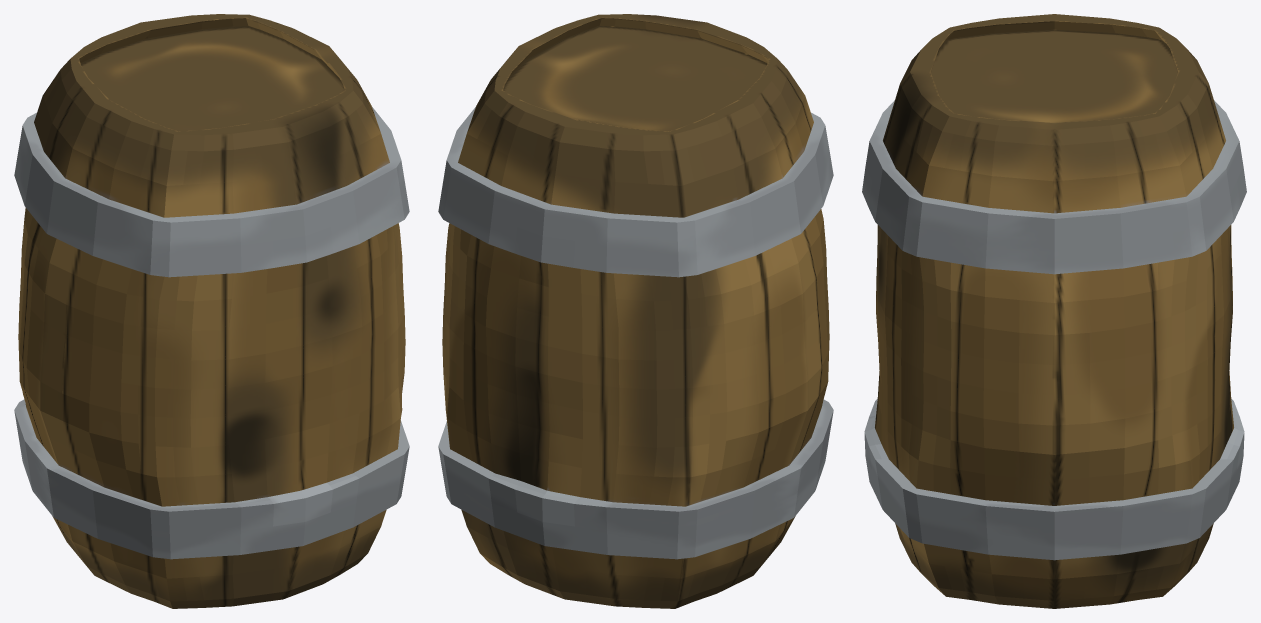
The model's file is barrelfurrygamejam2.glb.
The picture shows the model from 3 angles, left to right: view 1: azimuth 30°, elevation 25°; view 2: azimuth 150°, elevation 25°; view 3: azimuth 270°, elevation 25°; orthographic projection.
Parts seen in each view (by area): view 1: Cube.001; view 2: Cube.001; view 3: Cube.001.
Part boxes in pixels (<box>): Cube.001: <box>14,14,409,608</box>; Cube.001: <box>438,14,833,608</box>; Cube.001: <box>862,14,1246,608</box>.
Bounding box in the file's own units: 3.04 × 4 × 2.91.
Materials: 1 (1 with a texture image).
